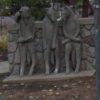Statue: (9, 2, 87, 81)
